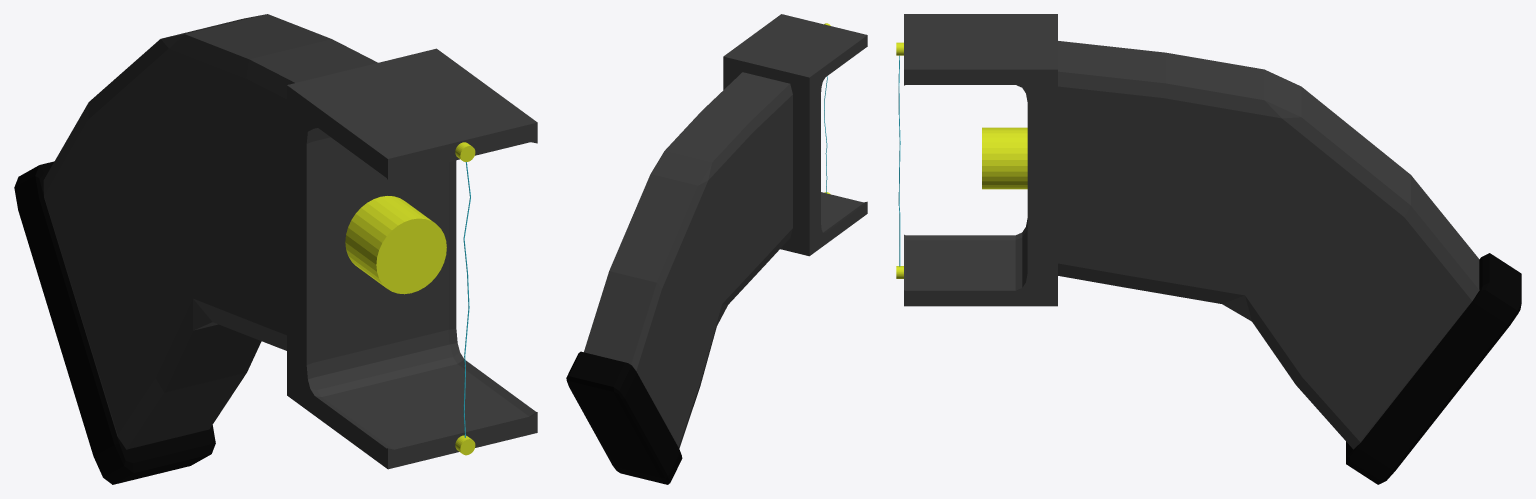
Rendered from Taser.fbx.
3 renders of one model, left to right at view 1: azimuth 30°, elevation 25°; view 2: azimuth 150°, elevation 25°; view 3: azimuth 270°, elevation 25°, orthographic. The views are drawn at different scales.
Visible parts, largest first — view 1: Cube, Cube.001, Cube.002, Cylinder.003; view 2: Cube, Cube.001, Cube.002; view 3: Cube, Cube.001, Cube.002, Cylinder.003.
Boxes of the visible parts, x1,y1,x2,y2 form: Cube: [43, 14, 377, 449]; Cube.001: [287, 48, 537, 469]; Cube.002: [14, 161, 215, 484]; Cylinder.003: [345, 196, 446, 294]; Cube: [584, 72, 792, 448]; Cube.001: [723, 14, 867, 256]; Cube.002: [566, 351, 682, 484]; Cube: [1058, 41, 1479, 449]; Cube.001: [904, 14, 1057, 306]; Cube.002: [1346, 253, 1521, 484]; Cylinder.003: [982, 127, 1027, 189].
Bounding box in the file's own units: 54.62 × 196 × 259.
